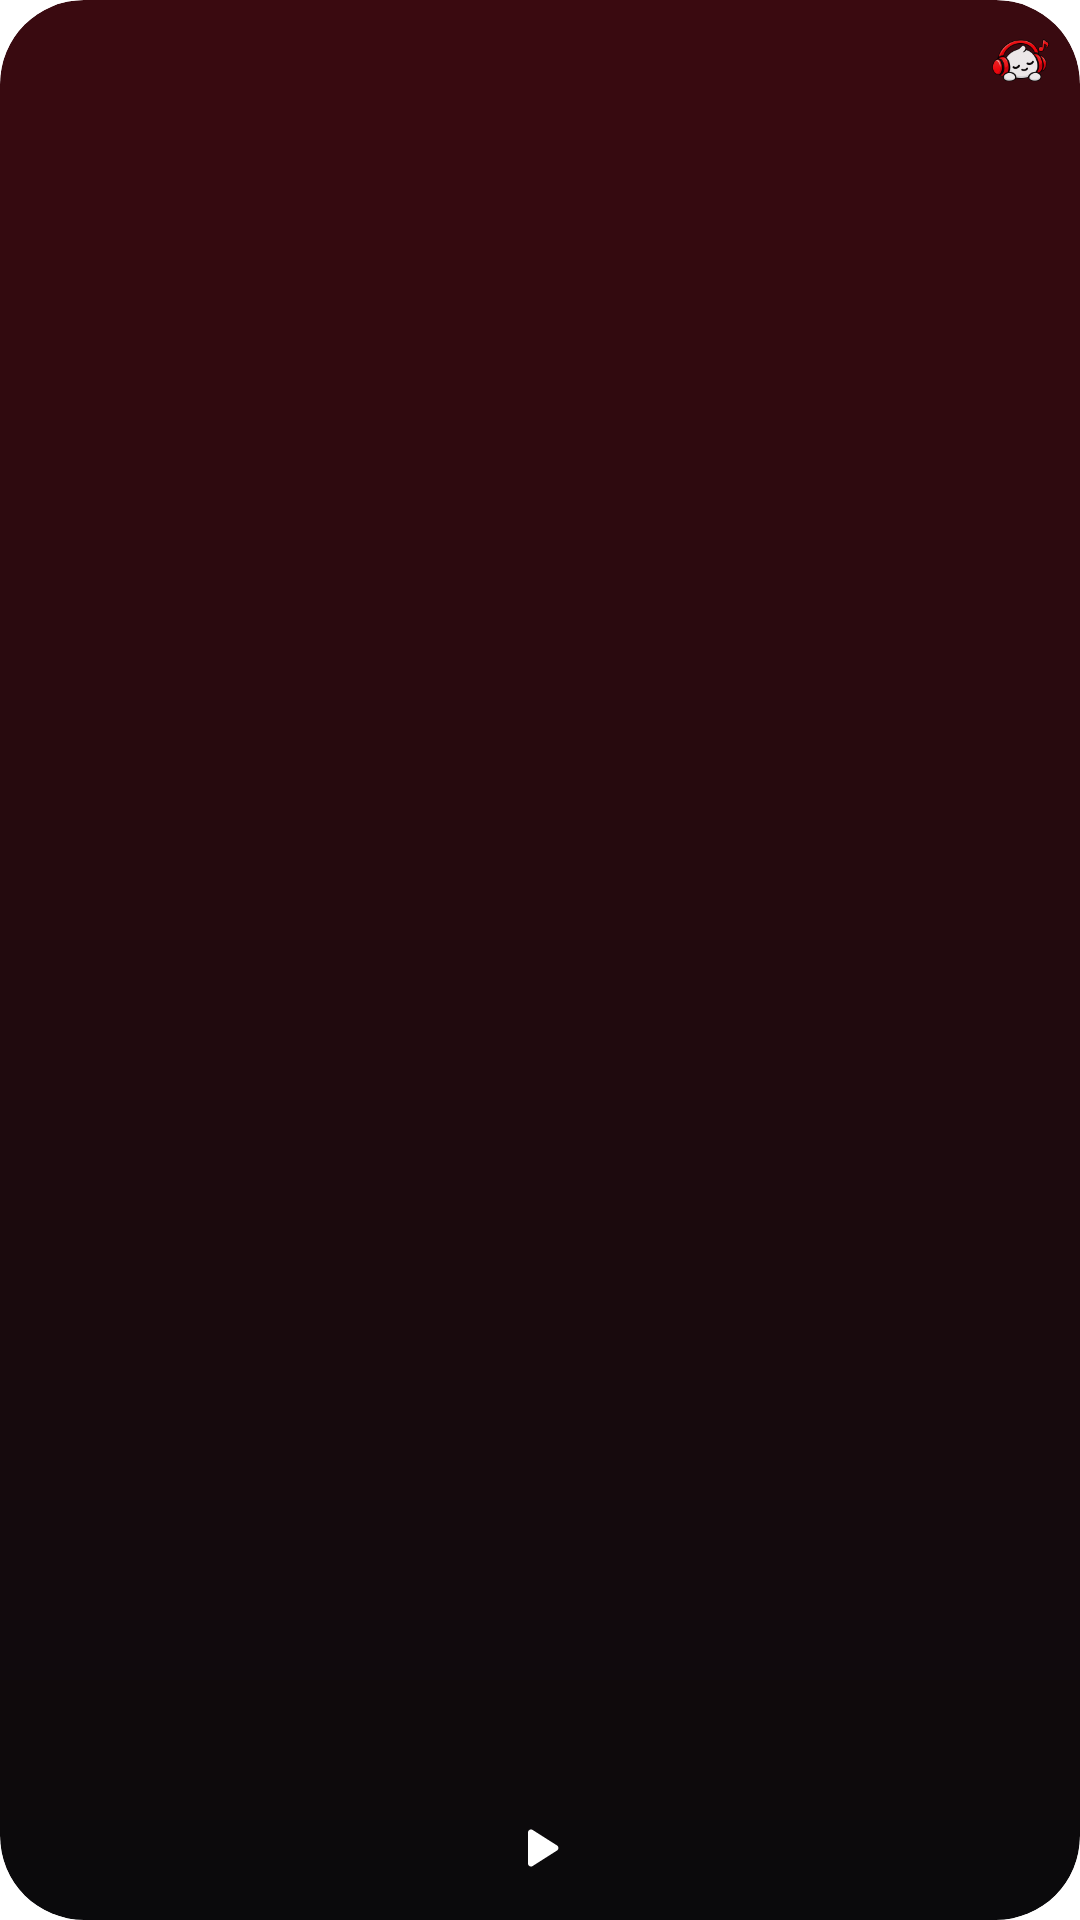

Where icons sit on this 1080w x 1920h app screen, as (x1, y1, x2, y2):
Play or pause: (528, 1829, 559, 1867)
